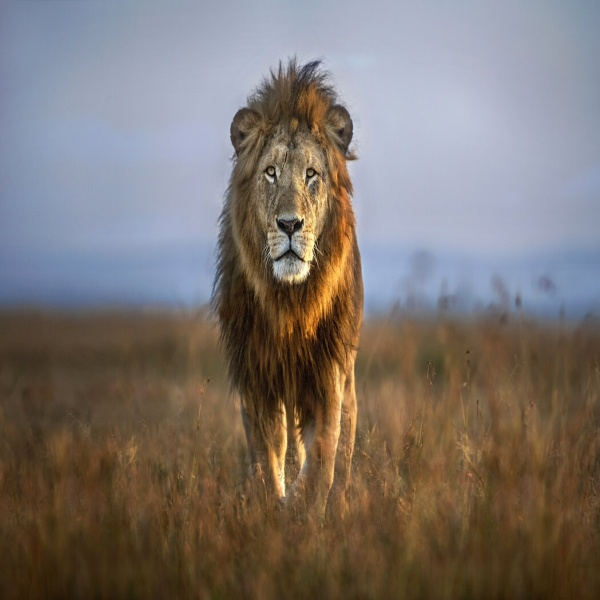Lion: (207, 50, 371, 536)
